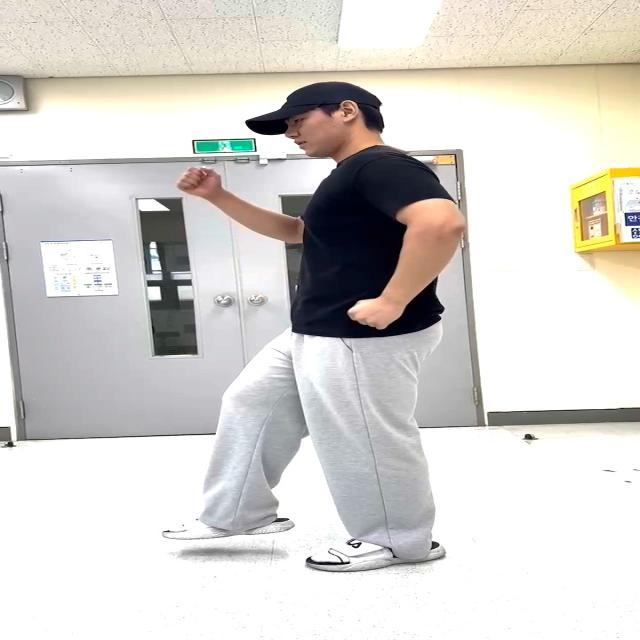leg: (164, 349, 298, 539)
